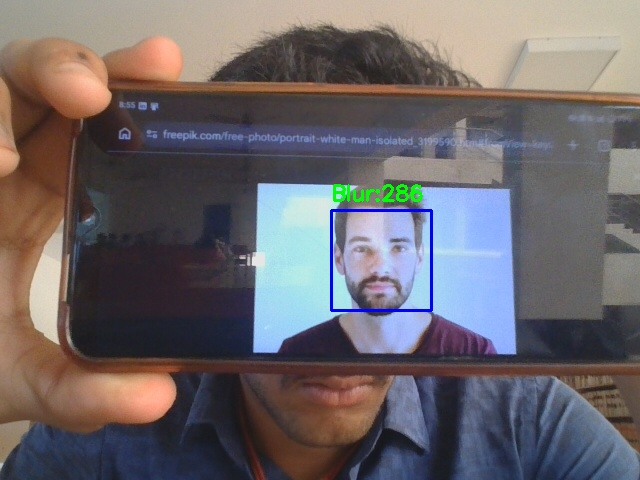fake: (331, 210, 431, 310)
